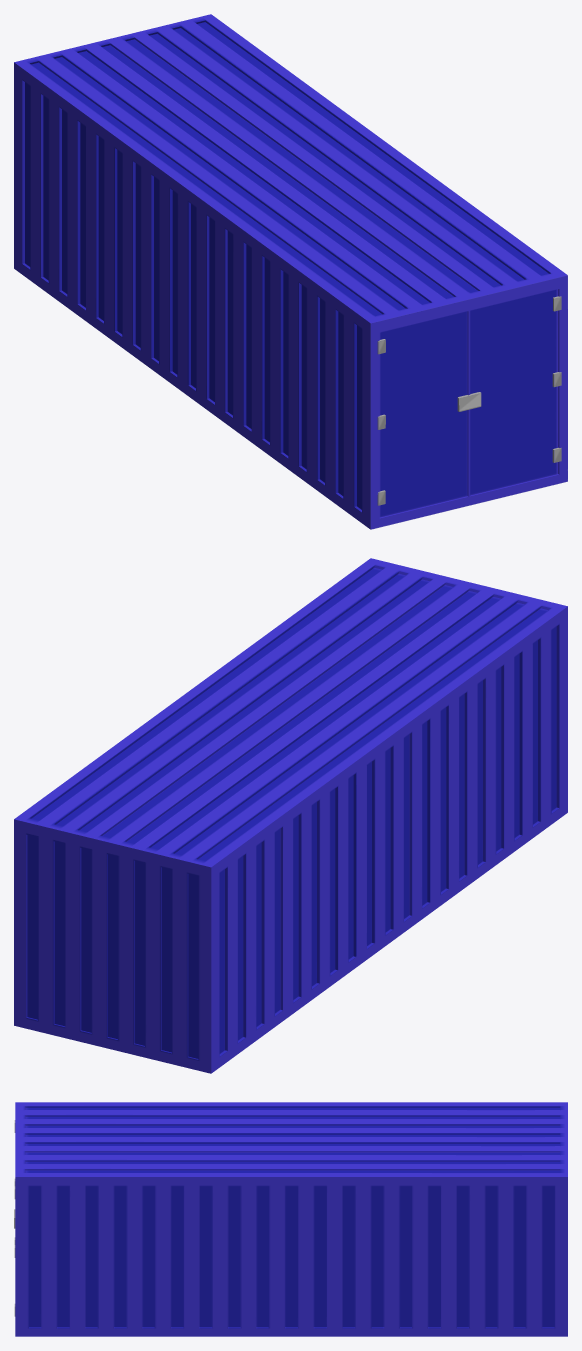
Rendered from ljubicasti kontejner.fbx.
The picture shows the model from 3 angles, top to bottom: view 1: azimuth 30°, elevation 25°; view 2: azimuth 150°, elevation 25°; view 3: azimuth 270°, elevation 25°; orthographic projection. The views are drawn at different scales.
Visible parts, largest first — view 1: Cube.003; view 2: Cube.003; view 3: Cube.003.
Boxes of the visible parts, box(x1,y1,x2,y2) form: Cube.003: box(14, 14, 567, 529); Cube.003: box(14, 558, 567, 1073); Cube.003: box(14, 1102, 567, 1336).
Size of the model in its own units: 229 by 229 by 720.
Materials: 1 (1 with a texture image).
